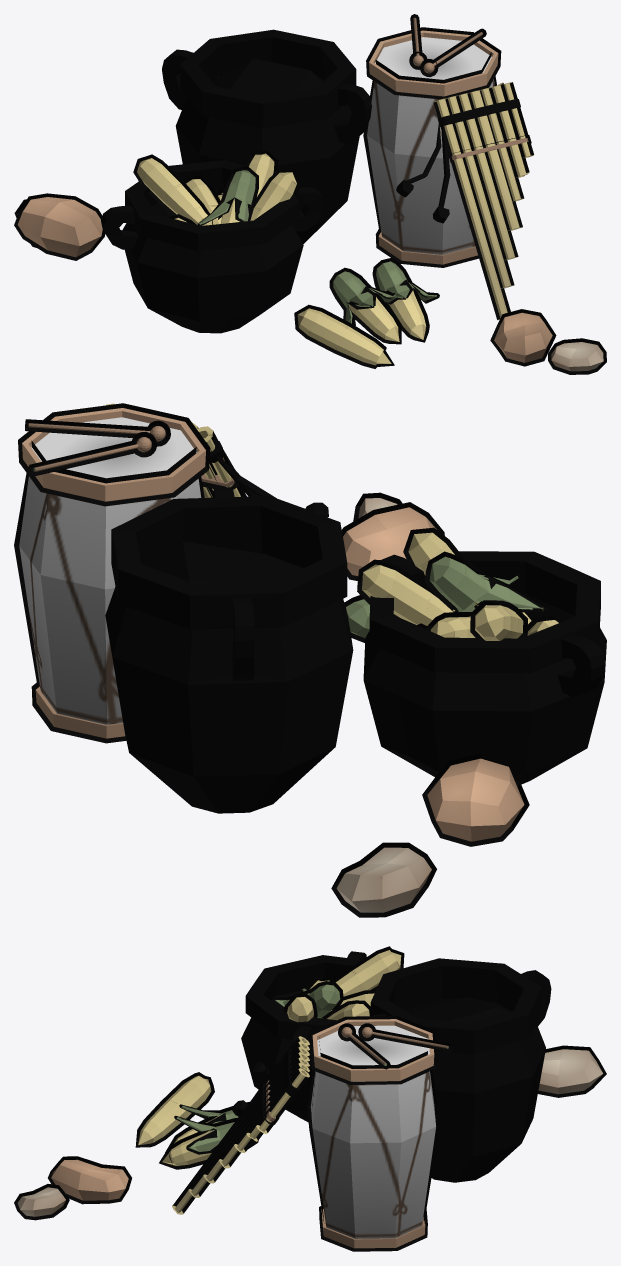
The model's file is Evento NOA.fbx.
3 views of the same model, one above another, from view 1: azimuth 30°, elevation 25°; view 2: azimuth 150°, elevation 25°; view 3: azimuth 270°, elevation 25° (orthographic). The views are drawn at different scales.
Parts seen in each view (by area): view 1: Cylinder.017; view 2: Cylinder.017; view 3: Cylinder.017.
Boxes of the visible parts, x1,y1,x2,y2 form: Cylinder.017: [14, 14, 606, 374]; Cylinder.017: [14, 403, 606, 917]; Cylinder.017: [14, 946, 606, 1251].
Size of the model in its own units: 759 by 364 by 965.
2 materials, 1 textured.
